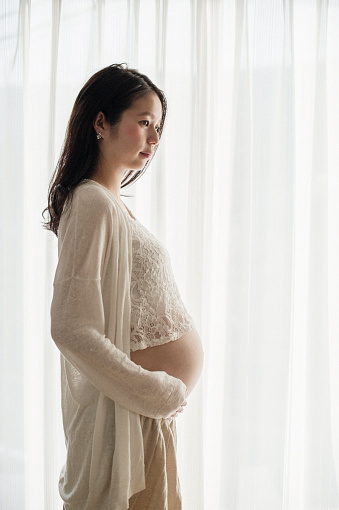em pe: (38, 56, 207, 510)
